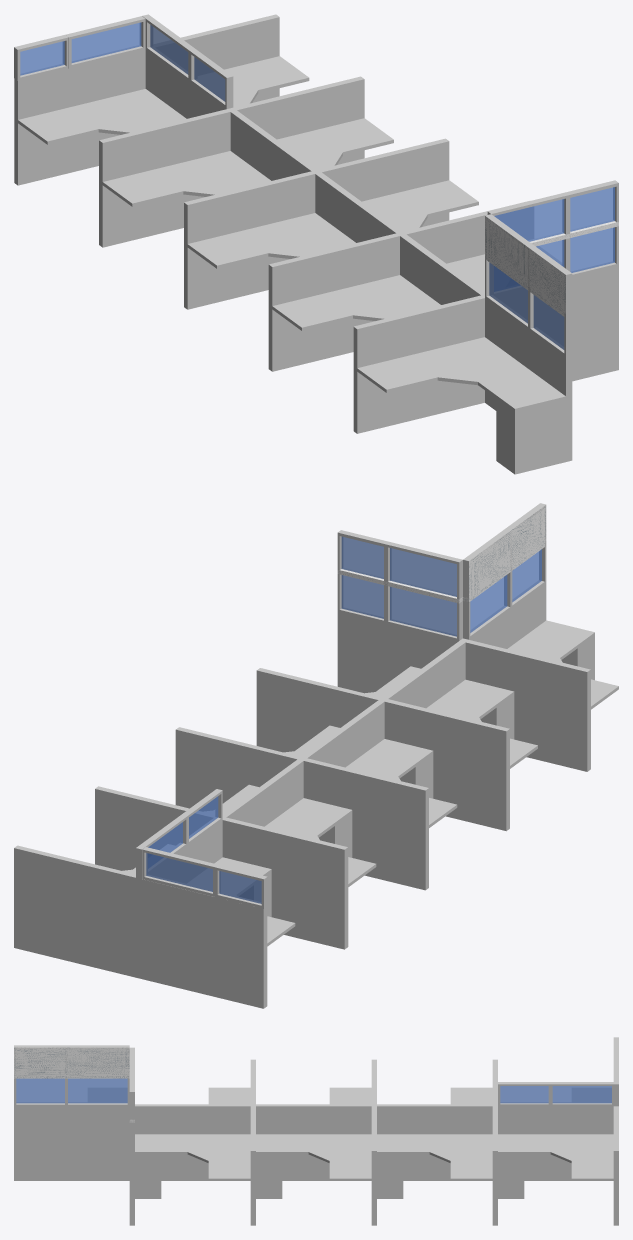
The model's file is cubicle.dae.
The picture shows the model from 3 angles, top to bottom: view 1: azimuth 30°, elevation 25°; view 2: azimuth 150°, elevation 25°; view 3: azimuth 270°, elevation 25°; orthographic projection. The views are drawn at different scales.
Visible parts, largest first — view 1: group_3 (×3), group_8 (×5), group_11, SketchUp (×2), group_14 (×2), group_15 (×2), group_13 (×2), group_12 (×2); view 2: group_3 (×3), group_8 (×5), group_11, SketchUp (×2), group_14 (×2), group_15 (×2); view 3: group_3 (×3), group_8 (×3), group_11, SketchUp, group_13 (×2), group_12 (×2).
Part boxes in pixels (bbox=[...]): group_3 (×3): bbox=[99, 76, 561, 371]; group_8 (×5): bbox=[353, 180, 618, 474]; group_11: bbox=[14, 14, 309, 185]; SketchUp (×2): bbox=[485, 216, 618, 316]; group_14 (×2): bbox=[65, 16, 145, 68]; group_15 (×2): bbox=[14, 35, 68, 80]; group_13 (×2): bbox=[145, 17, 195, 81]; group_12 (×2): bbox=[190, 49, 233, 108]; group_3 (×3): bbox=[95, 641, 537, 949]; group_8 (×5): bbox=[337, 503, 618, 771]; group_11: bbox=[14, 820, 295, 1008]; SketchUp (×2): bbox=[337, 505, 546, 603]; group_14 (×2): bbox=[142, 847, 218, 896]; group_15 (×2): bbox=[215, 865, 267, 908]; group_3 (×3): bbox=[135, 1059, 497, 1225]; group_8 (×3): bbox=[14, 1045, 134, 1225]; group_11: bbox=[498, 1082, 618, 1225]; SketchUp: bbox=[14, 1047, 129, 1078]; group_13 (×2): bbox=[550, 1082, 613, 1106]; group_12 (×2): bbox=[498, 1082, 550, 1106].
Size of the model in its own units: 123 by 345 by 84.
